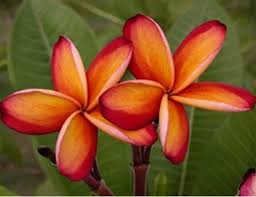frangipani: (1, 36, 157, 180)
